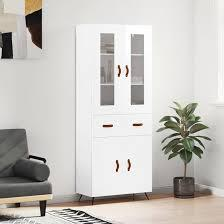Indoor Plant: (162, 101, 210, 198)
cabinet: (75, 22, 153, 202)
carpet: (2, 209, 114, 224)
painting: (2, 0, 43, 59)
sofa: (0, 128, 51, 216)
